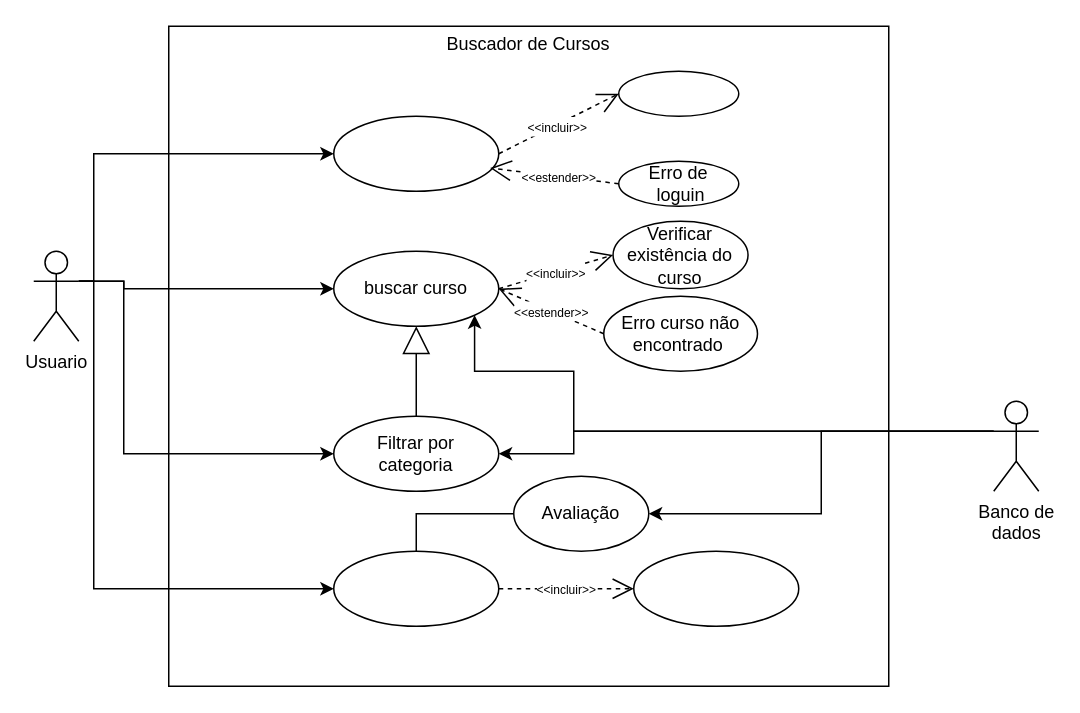
The diagram is 1080 pixels wide and 713 high, and some of its shapes have lost their labels. The centre of each missing label's shape, as x and y in pixels:
"Fazer loguin" goes at (x=415, y=153).
"redirecionamento" goes at (x=715, y=588).
"Selecionar curso" goes at (x=415, y=588).
"Verificar senha" goes at (x=678, y=93).
